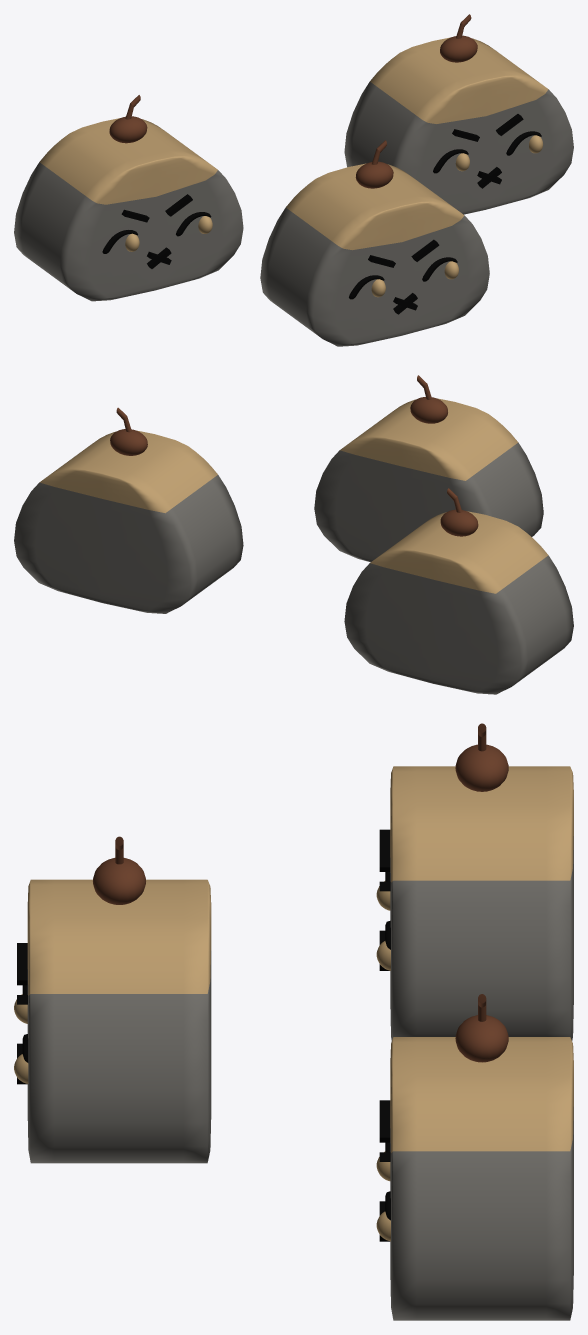
File: bolas pastel.fbx
The picture shows the model from 3 angles, top to bottom: view 1: azimuth 30°, elevation 25°; view 2: azimuth 150°, elevation 25°; view 3: azimuth 270°, elevation 25°; orthographic projection. The views are drawn at different scales.
Visible parts, largest first — view 1: bola_pastel, bola_pastel2, bola_pastel1; view 2: bola_pastel, bola_pastel1, bola_pastel2; view 3: bola_pastel2, bola_pastel1, bola_pastel.
Boxes of the visible parts, x1,y1,x2,y2 form: bola_pastel: (14,95,243,301); bola_pastel2: (260,140,489,346); bola_pastel1: (344,14,573,214); bola_pastel: (344,488,573,694); bola_pastel1: (14,407,243,613); bola_pastel2: (314,375,543,562); bola_pastel2: (14,836,211,1163); bola_pastel1: (376,994,573,1320); bola_pastel: (376,723,573,1040).
Size of the model in its own units: 5.35 by 1.75 by 3.05.
